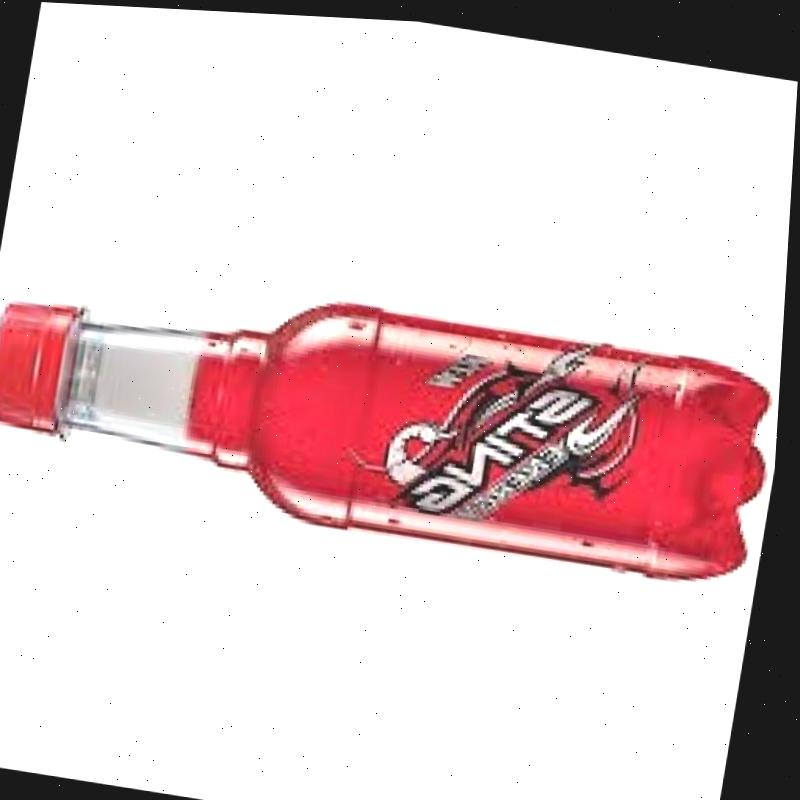botella: (0, 247, 786, 592)
